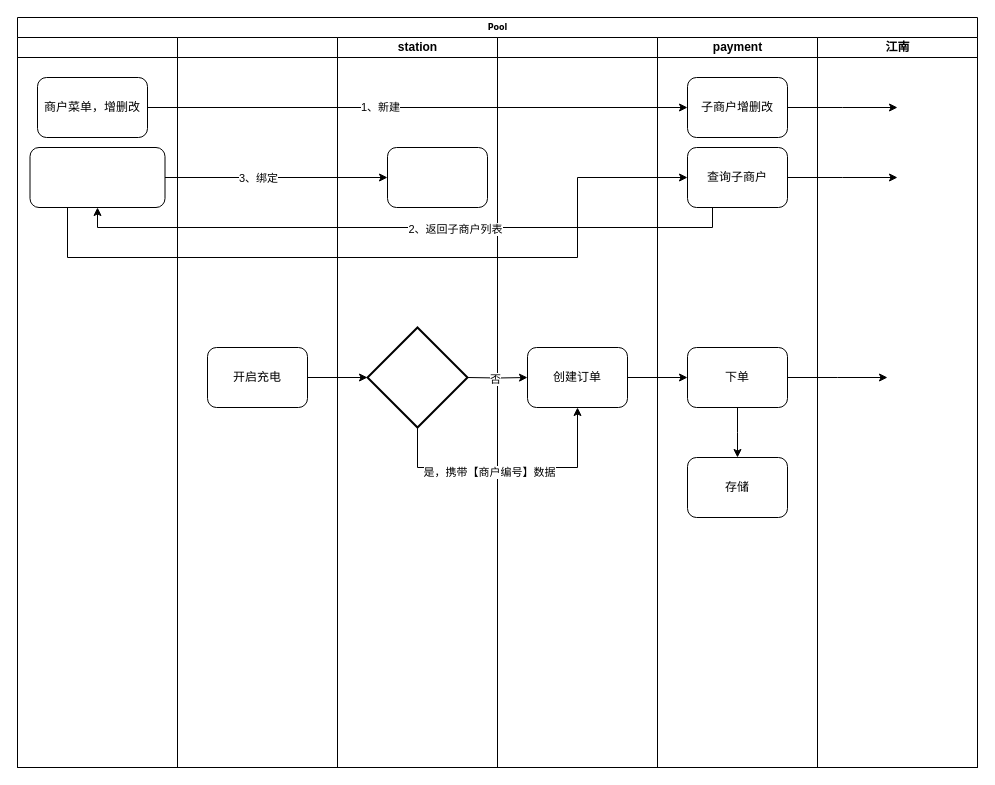
This 995x785 diagram has some shape labels left out. The shapes that lost their labels are listed below. From the top down, each one's box as (x1, y1, x2, y2) in pixels, then its label:
(29, 146, 165, 208): 修改站，绑定子商户
(386, 146, 488, 208): 绑定当前站与子商户，并修改当前站支付渠道
(366, 326, 468, 428): 是否分账
(16, 36, 178, 768): 后台
(176, 36, 338, 768): 用户
(496, 36, 658, 768): order
